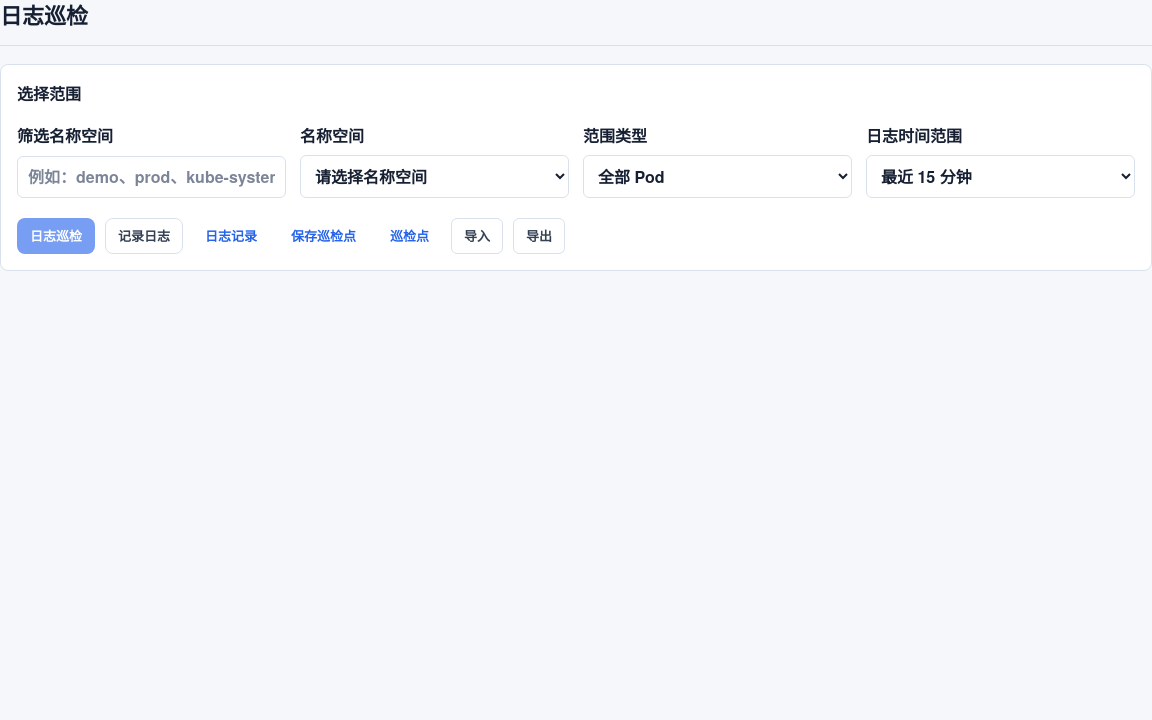
Test: NamespaceInspectionPage › runs namespace route through merged range inspection flow
Select "demo" in the dropdown labelled "名称空间" at (434, 176), box [300,155,569,198]
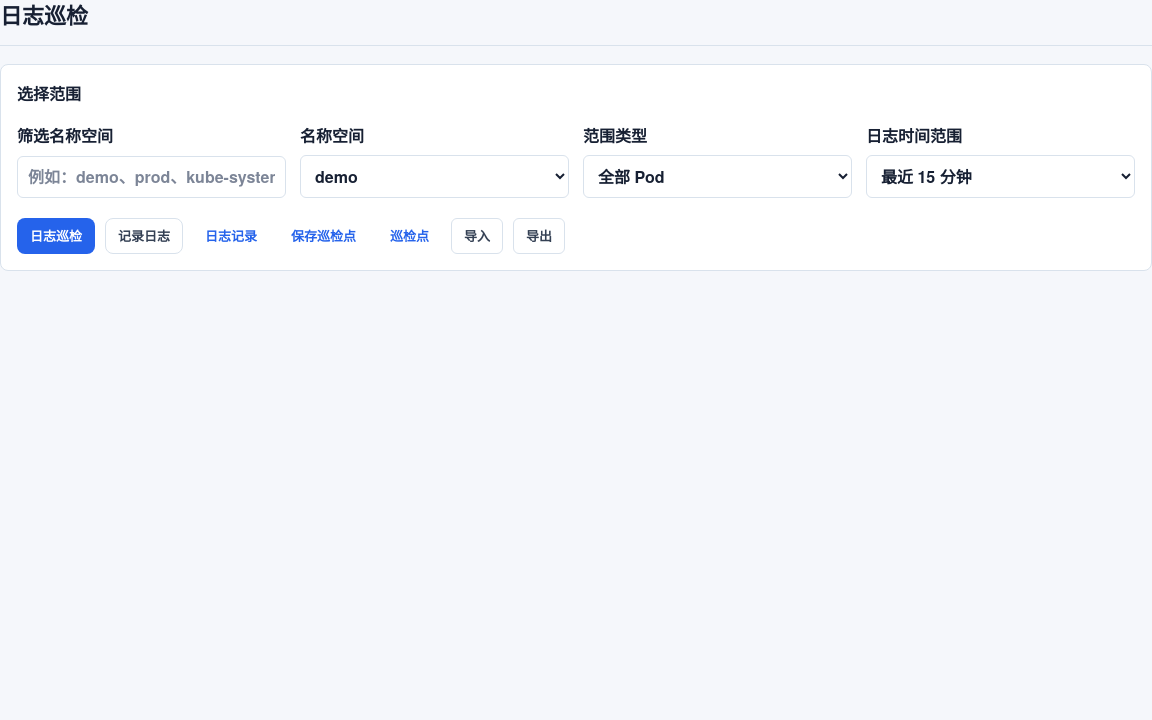
Click the button "日志巡检".
click(56, 236)  # box [17,218,95,254]
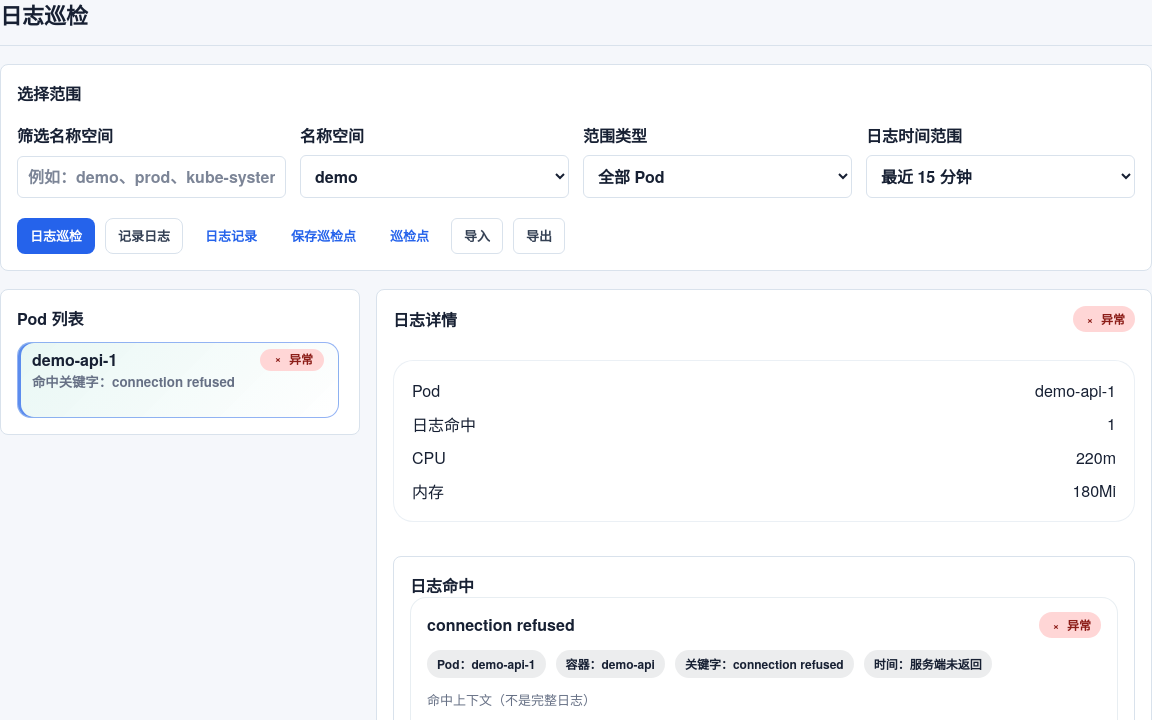
Now the heading "Pod 列表" is shown, box [17,306,83,330]
